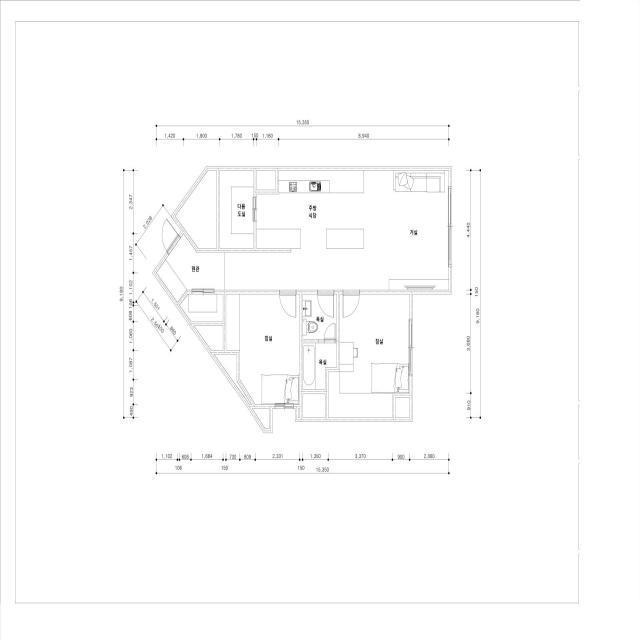space_bedroom: (328, 294, 410, 418), (226, 294, 300, 404)
space_front: (157, 234, 225, 302), (180, 294, 223, 322)
space_kitchen: (257, 170, 364, 248)
space_living_room: (224, 170, 449, 290)
space_multipurpose_space: (220, 170, 253, 248)
space_other: (175, 170, 217, 248), (214, 354, 251, 404), (194, 326, 223, 350), (303, 394, 325, 418), (257, 170, 276, 190), (252, 409, 269, 429), (395, 397, 410, 418), (298, 409, 300, 418)
space_toilet: (303, 343, 337, 390), (303, 294, 337, 339)
